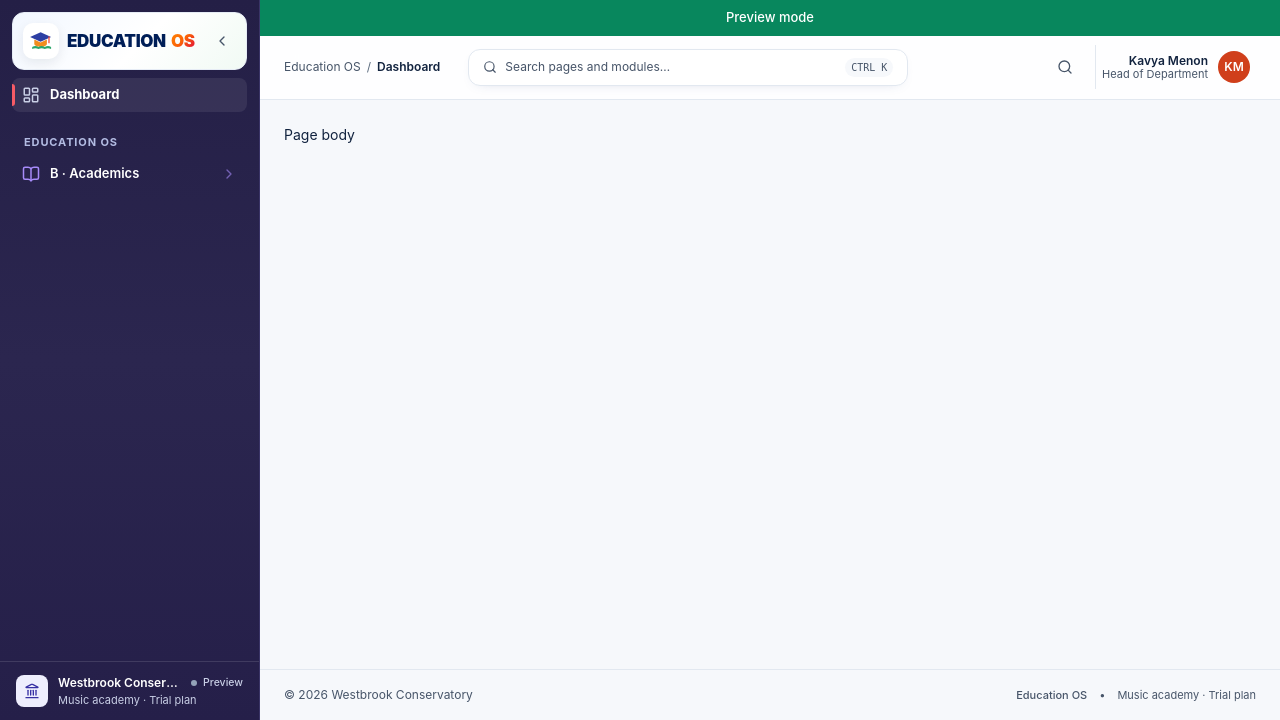
Test case: AppShell › opens the account menu and signs out
Click the button "Kavya Menon Head of Department KM" at [1176, 67], box [1095,45,1256,89]
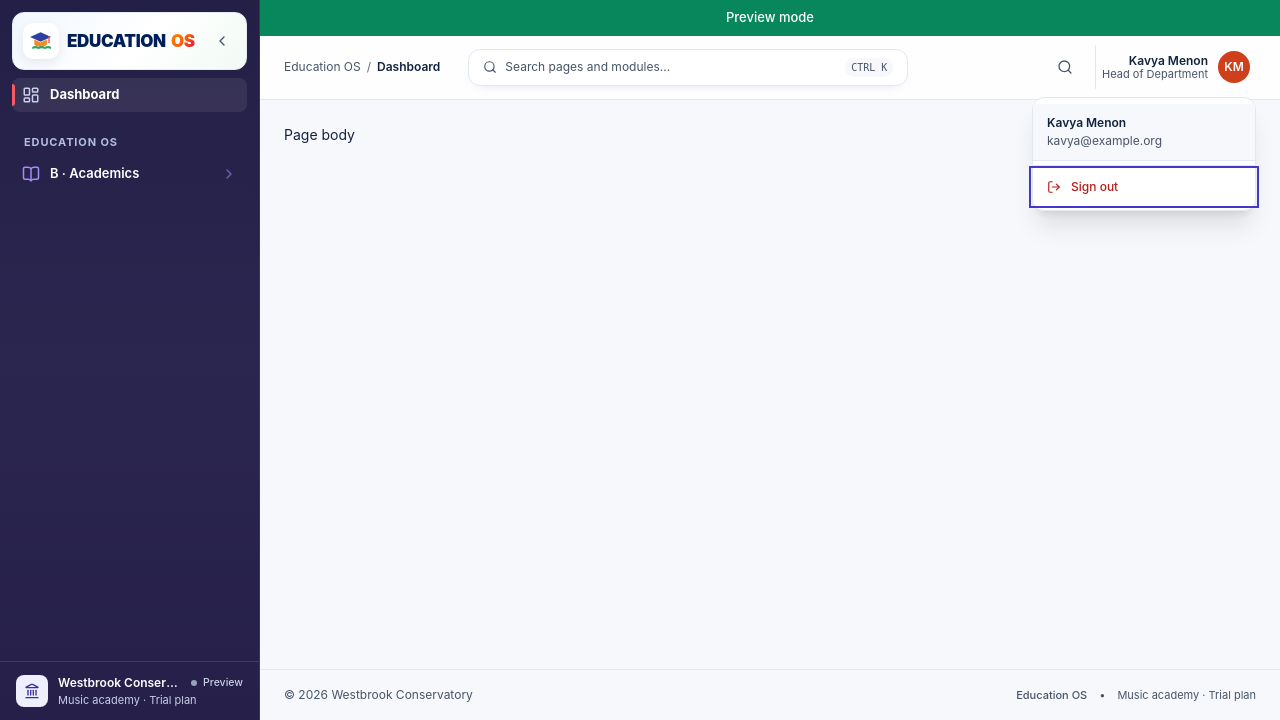
Check: the menu is shown, box [1032,97,1256,211]
Check: the menu item "Sign out" is shown, box [1033,170,1255,204]
